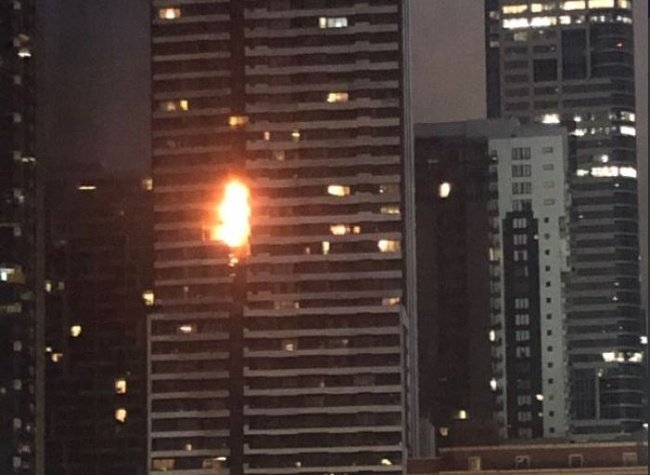Fire: (209, 180, 256, 249)
